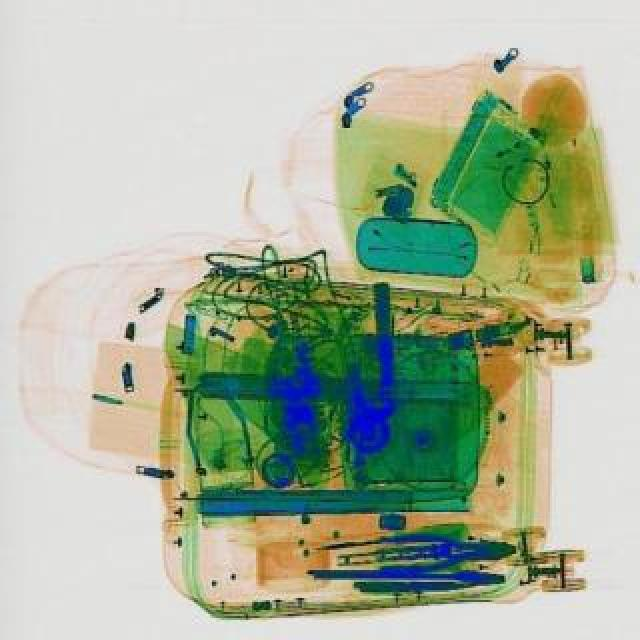wrench: (374, 528, 516, 572)
